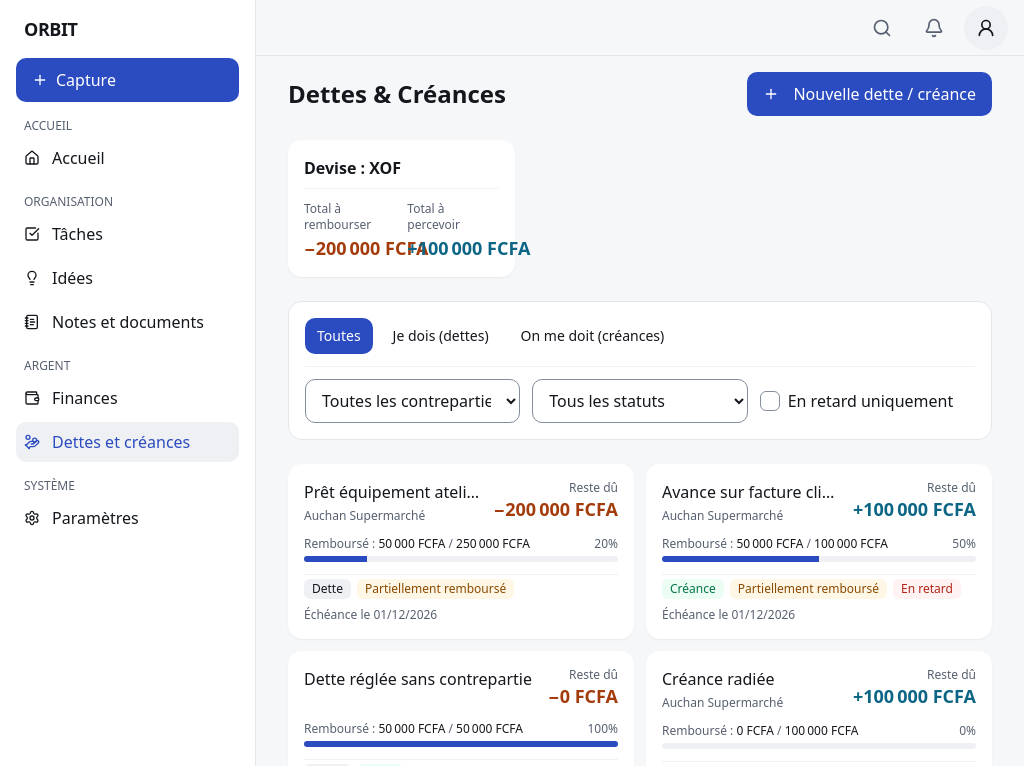
Finance - Dettes et créances (/finance/debts) › lists debts, renders summary cards, and filters by type tab
expect the heading "Dettes & Créances" is shown: met, box x1=288 y1=78 x2=506 y2=110
expect the text "Devise : XOF" is shown: met, box x1=304 y1=156 x2=401 y2=180
Note: Clic sur l'onglet "Je dois (dettes)"
Step 1. Click the tab "Je dois (dettes)" → {"x": 441, "y": 336}, box x1=381 y1=318 x2=501 y2=354
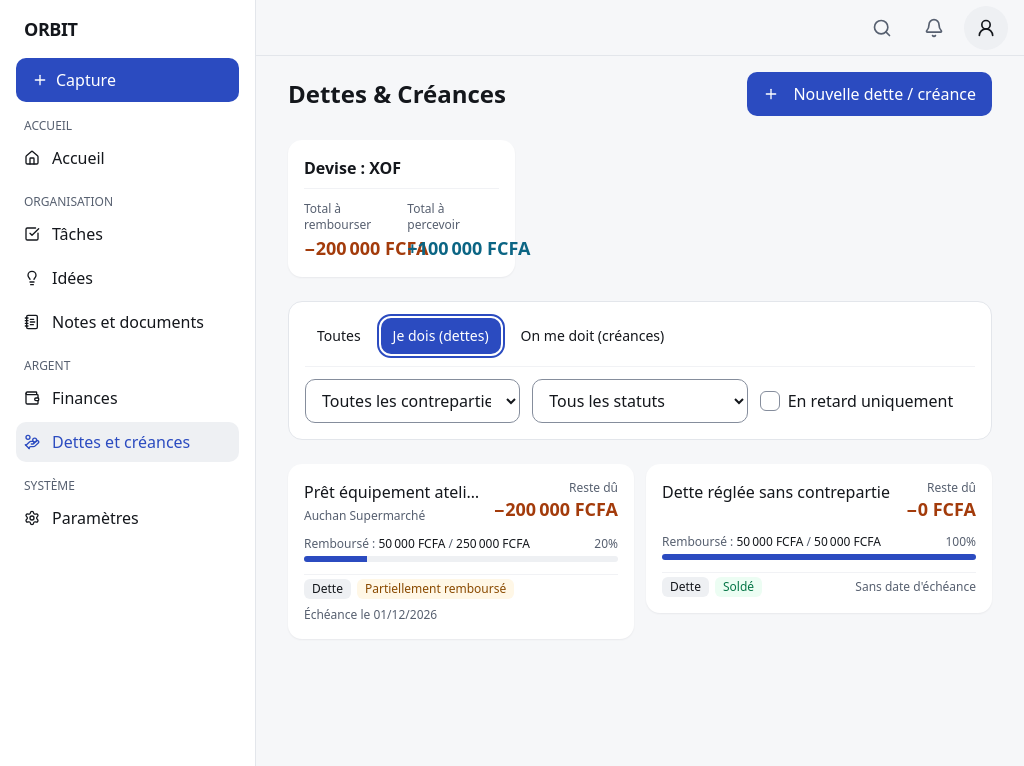
expect the link "Prêt équipement atelier" is shown: met, box x1=304 y1=480 x2=482 y2=504
expect the link "Avance sur facture client" is gone: met
Note: Clic sur l'onglet "On me doit (créances)"
Step 2. Click the tab "On me doit (créances)" → {"x": 592, "y": 336}, box x1=509 y1=318 x2=676 y2=354
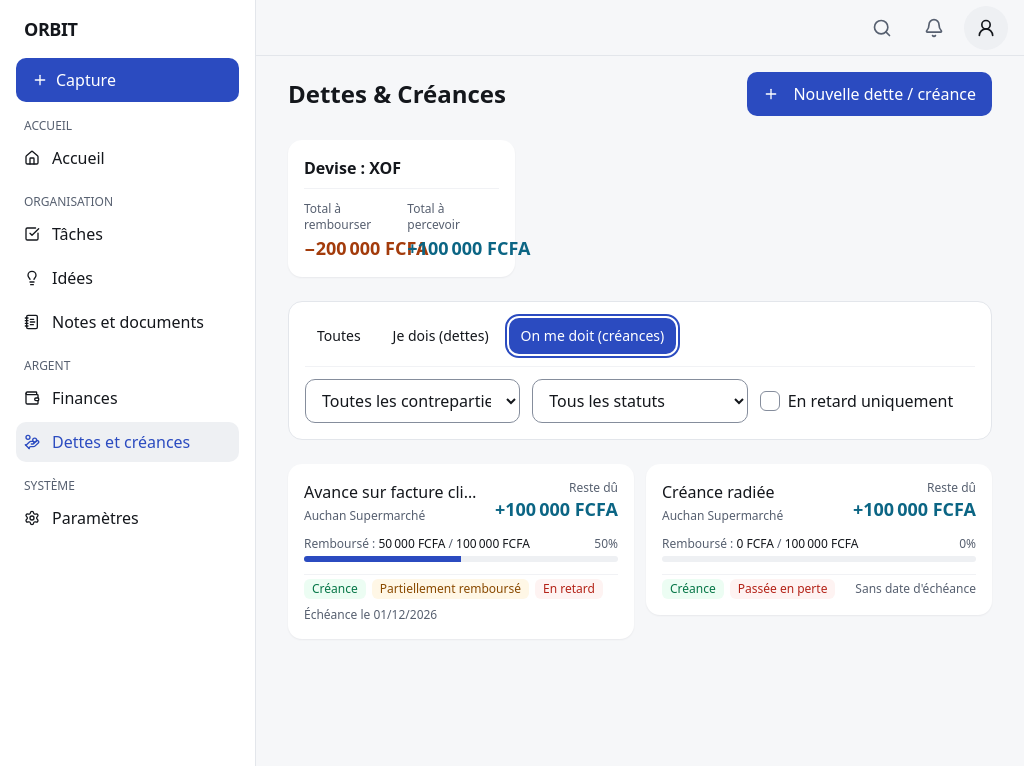
expect the link "Prêt équipement atelier" is gone: met
expect the link "Avance sur facture client" is shown: met, box x1=304 y1=480 x2=483 y2=504
